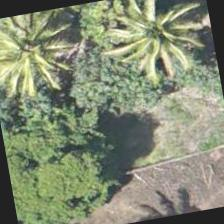Kelapa_Sawit: (101, 0, 206, 85), (0, 6, 83, 97)
